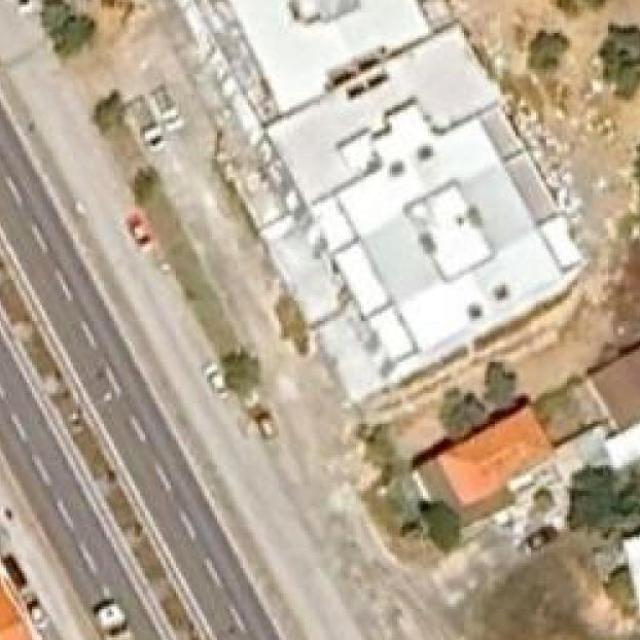Tree: (598, 19, 640, 100), (525, 28, 569, 77), (423, 499, 462, 551), (220, 352, 264, 398), (54, 14, 99, 54), (484, 357, 520, 401), (559, 0, 611, 10)
